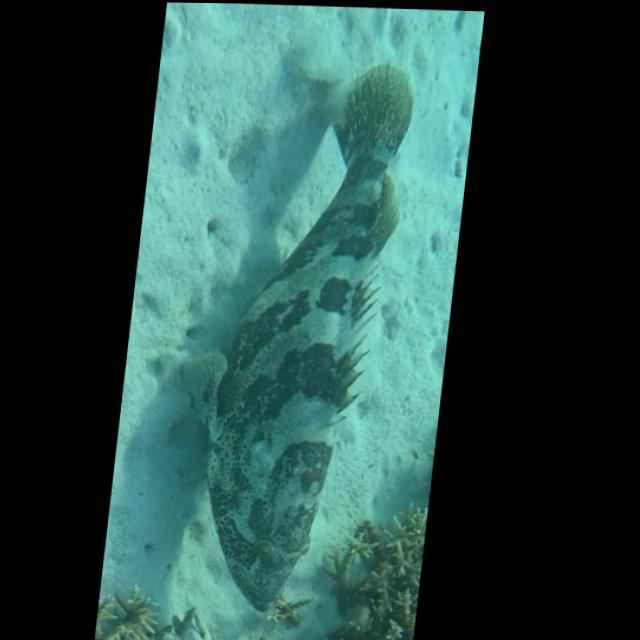Groupers: (154, 57, 421, 612)
